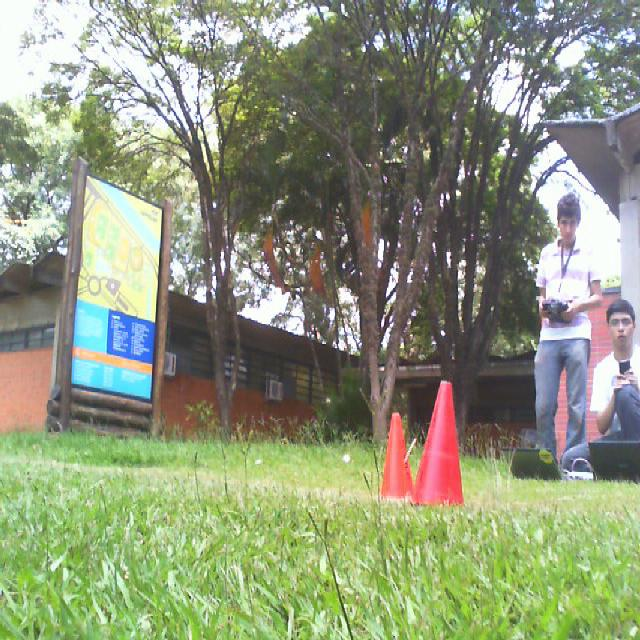cone: (411, 382, 464, 506), (381, 412, 414, 500)
